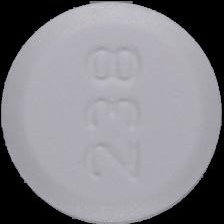63187-197: (0, 0, 224, 224)
